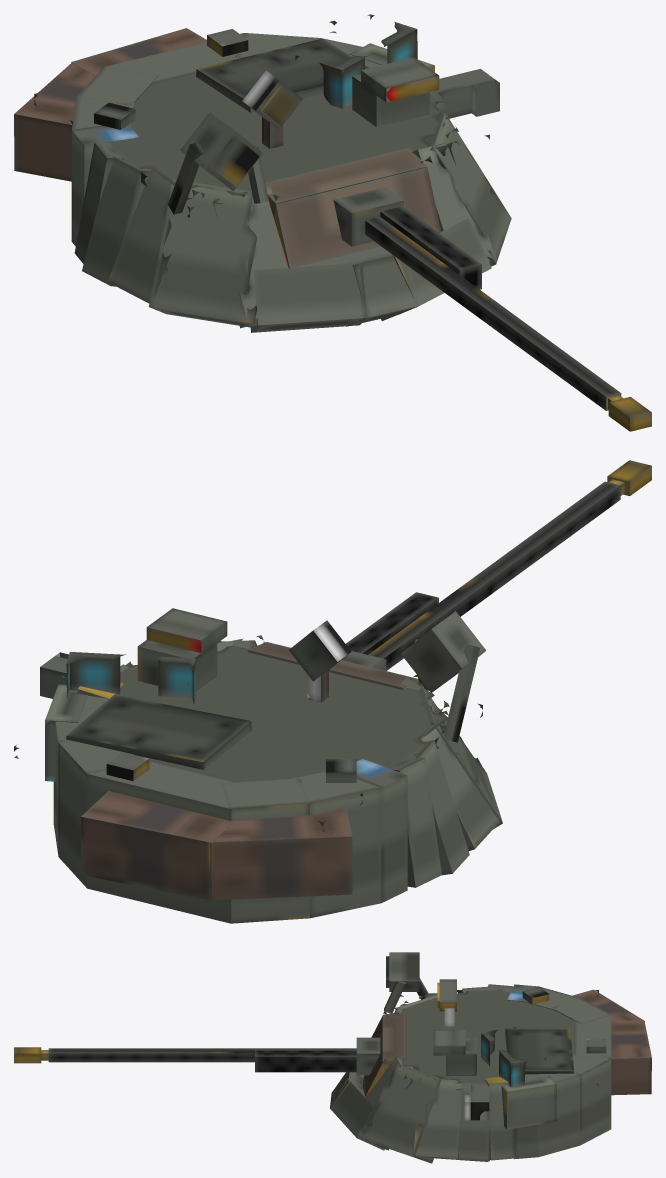
Rendered from turret_bmd2.obj.
3 renders of one model, top to bottom at view 1: azimuth 30°, elevation 25°; view 2: azimuth 150°, elevation 25°; view 3: azimuth 270°, elevation 25°, orthographic. The views are drawn at different scales.
Parts seen in each view (by area): view 1: turret, gun, gun2; view 2: turret, gun2, gun; view 3: turret, gun, gun2.
Boxes of the visible parts, box(x1,y1,x2,y2) form: turret: box(14, 14, 511, 332); gun: box(272, 167, 481, 289); gun2: box(365, 217, 651, 431); turret: box(14, 608, 502, 923); gun2: box(368, 460, 651, 670); gun: box(342, 592, 438, 670); turret: box(330, 952, 651, 1163); gun: box(255, 1016, 389, 1097); gun2: box(14, 1047, 356, 1063).
Bounding box in the file's own units: 2.24 × 1.09 × 4.85.
